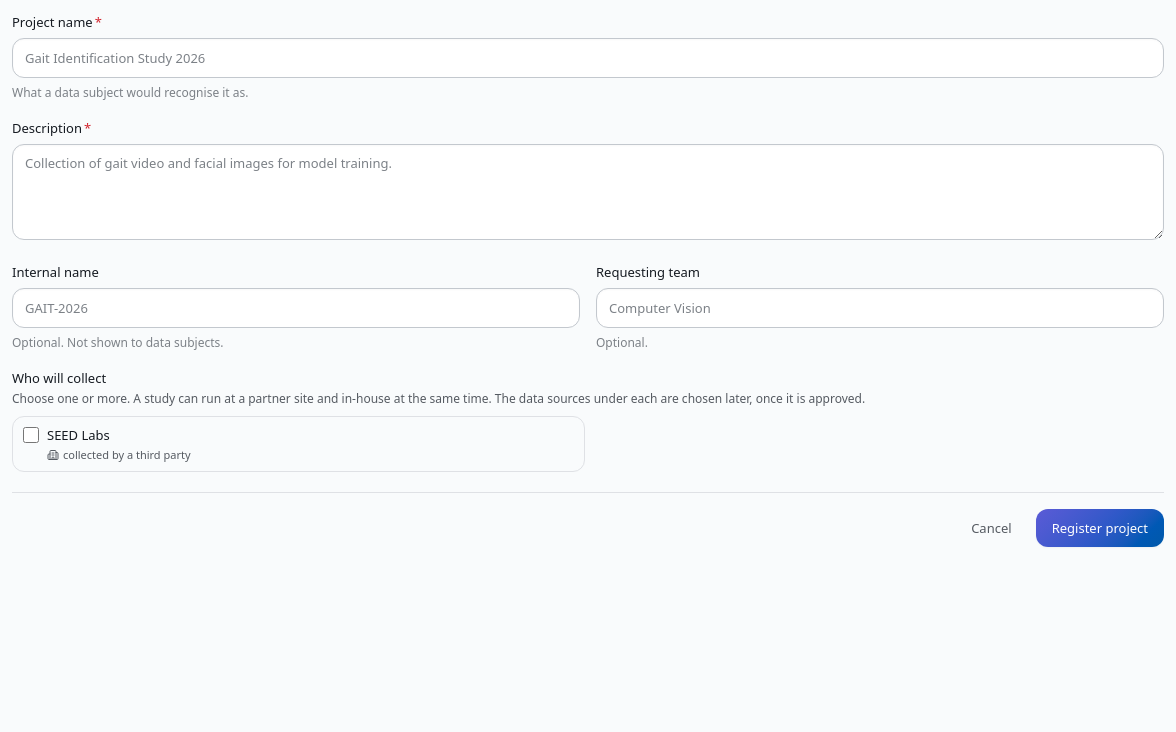
Test: registering one › still refuses a project with nobody named to collect, and says so
In the field labelled "Project name*": (588, 58) [12,38,1164,78], type "A new study"
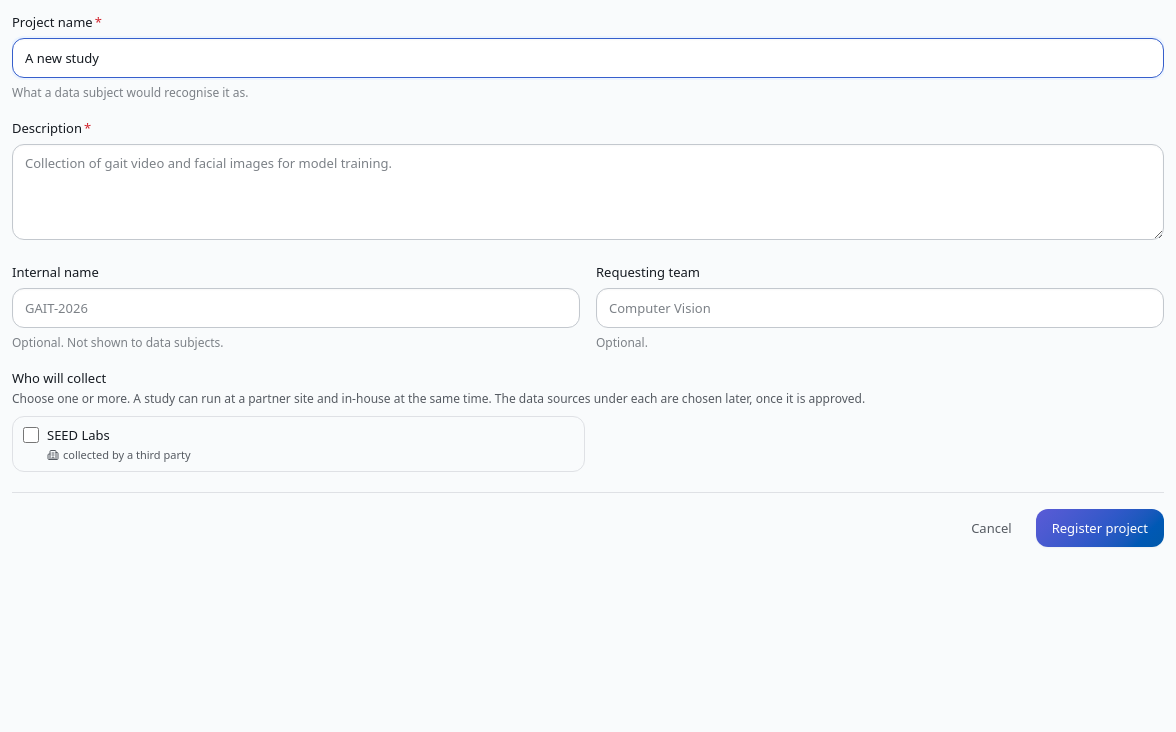
In the text box labelled "Description*": (588, 192) [12,144,1164,240], type "What it collects and why."
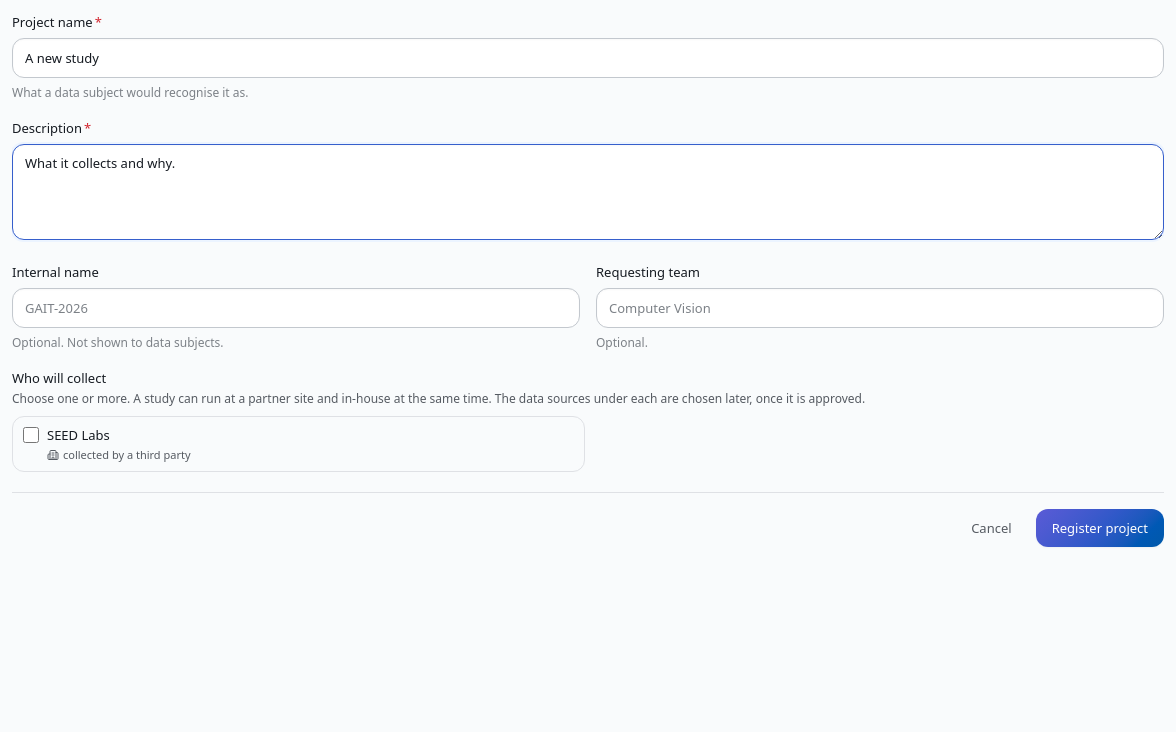
Click the button "Register project": (1100, 528) [1036,509,1164,547]
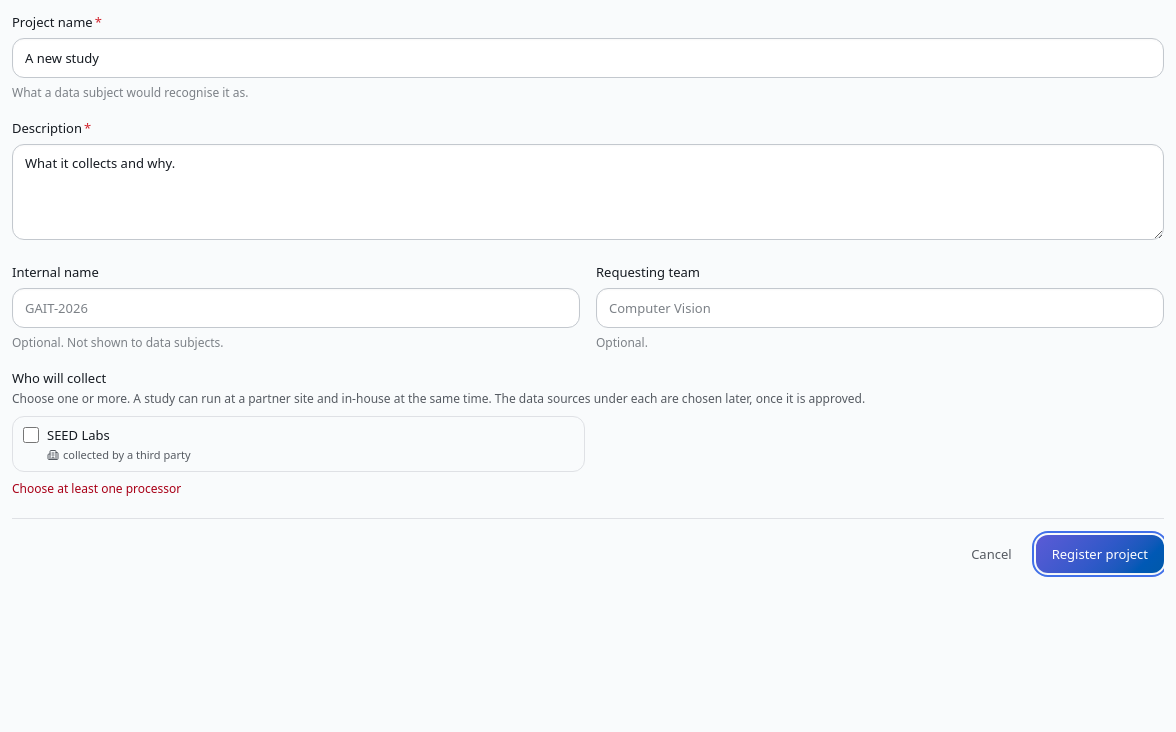
Result: the text "Choose at least one processor" is shown at [12,480,181,497]
